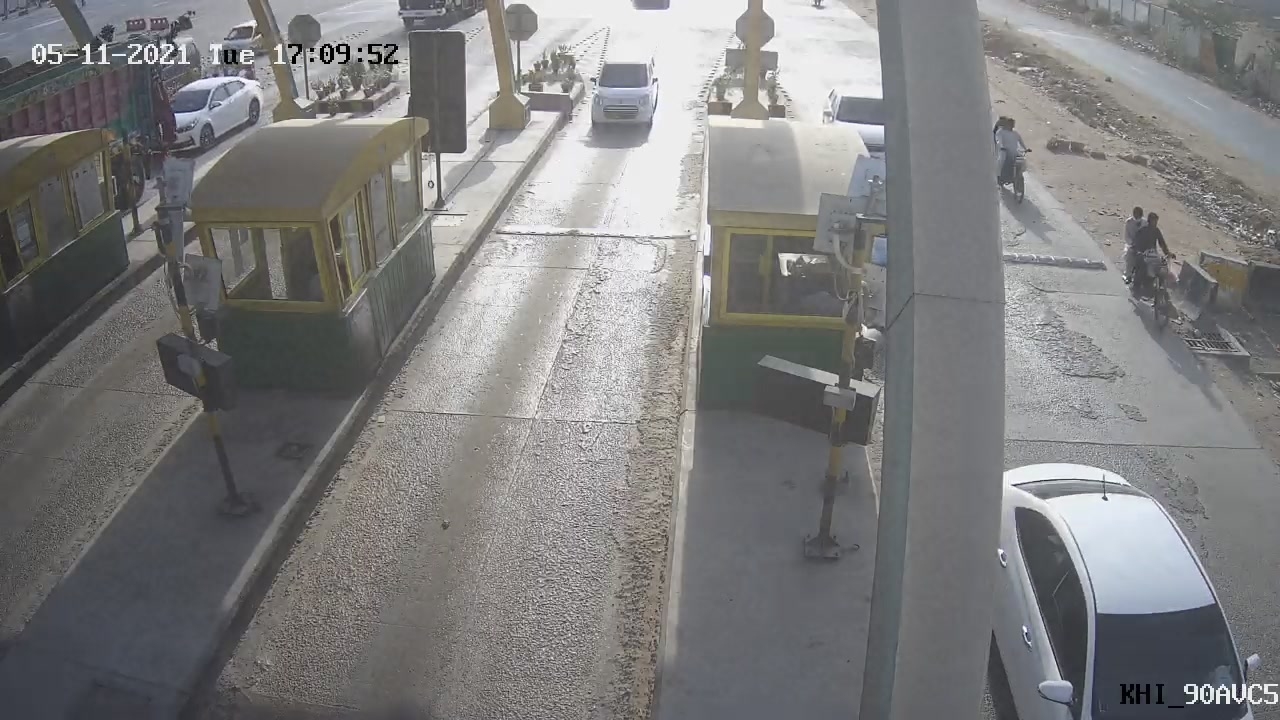F1: (572, 46, 674, 143)
